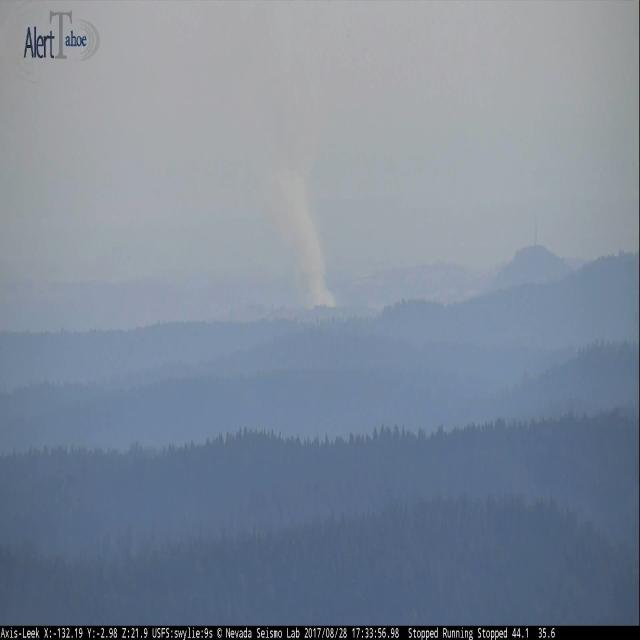smoke: (253, 121, 336, 315)
